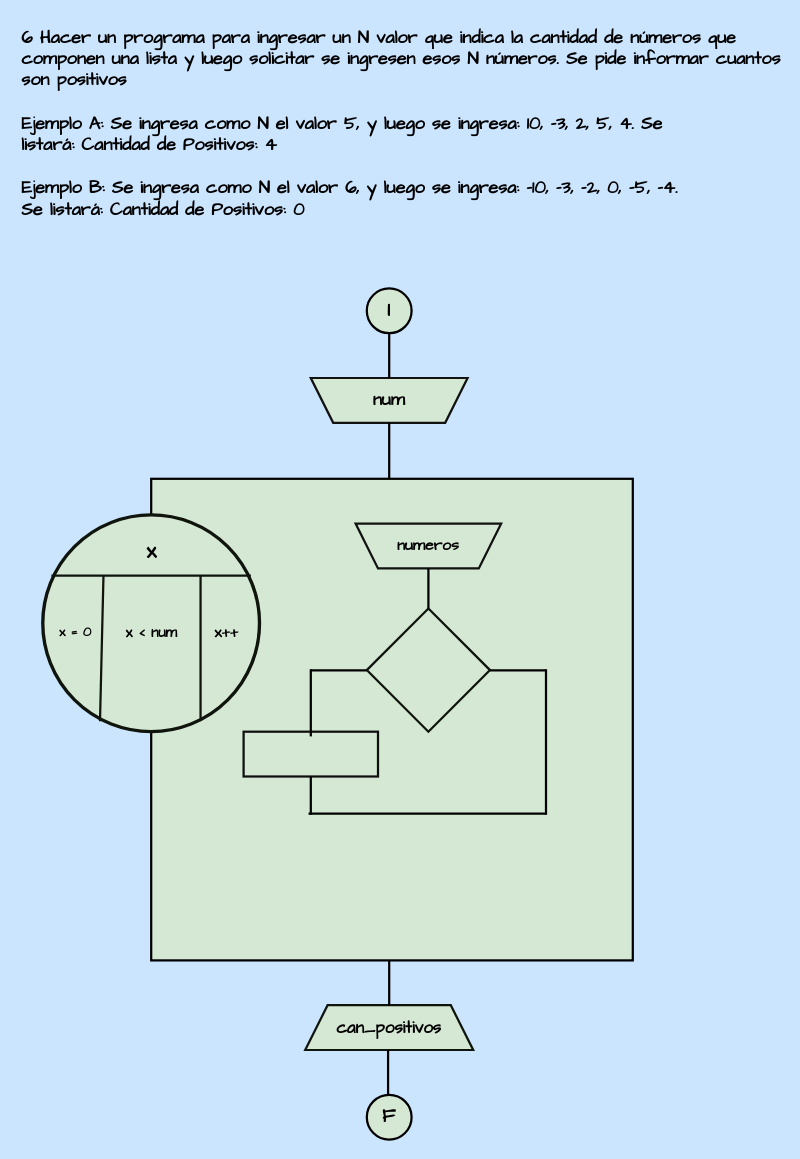
Some shapes in this 800 by 1159 pixel diagram are drawn without their labels. The centre of each missing label's shape, as x and y in pixels:
can_positivos++: pixel 310 753
numeros > 0: pixel 428 669
